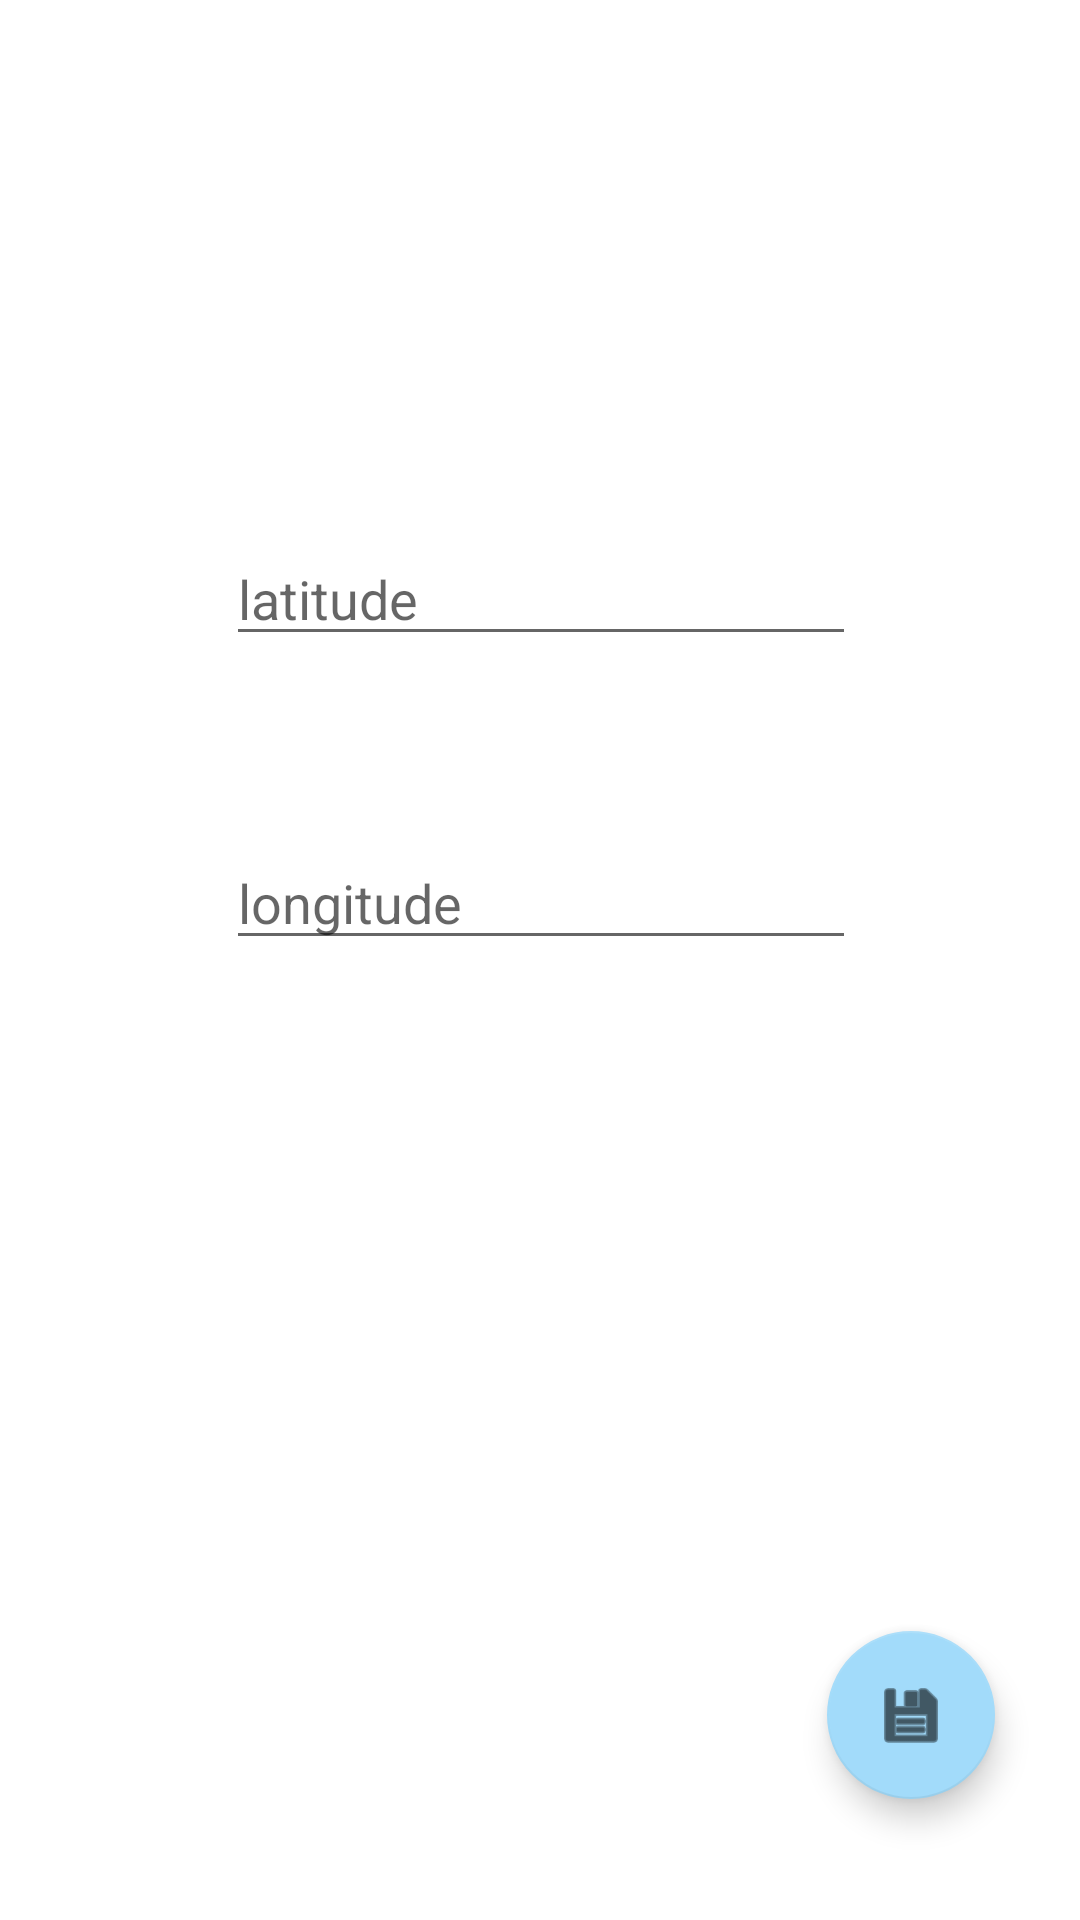

Named icons in this screenshot (1080 × 1920) and their bounding boxes, box(x1, y1, x2, y2):
save: box(827, 1631, 995, 1799)
